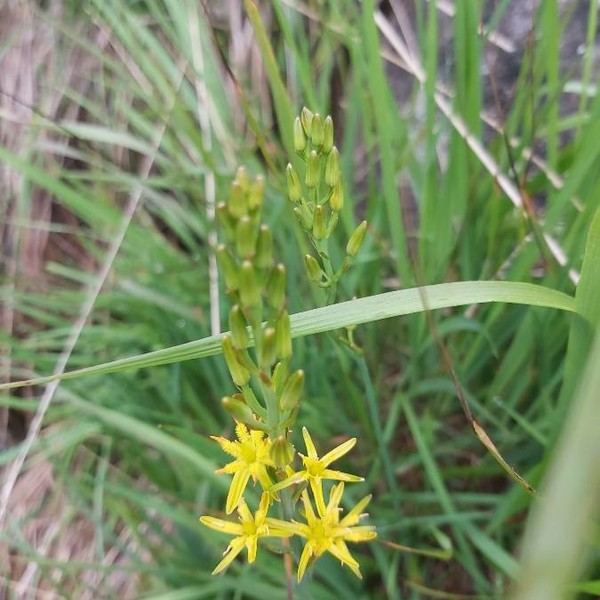obstacle: (159, 97, 414, 549)
